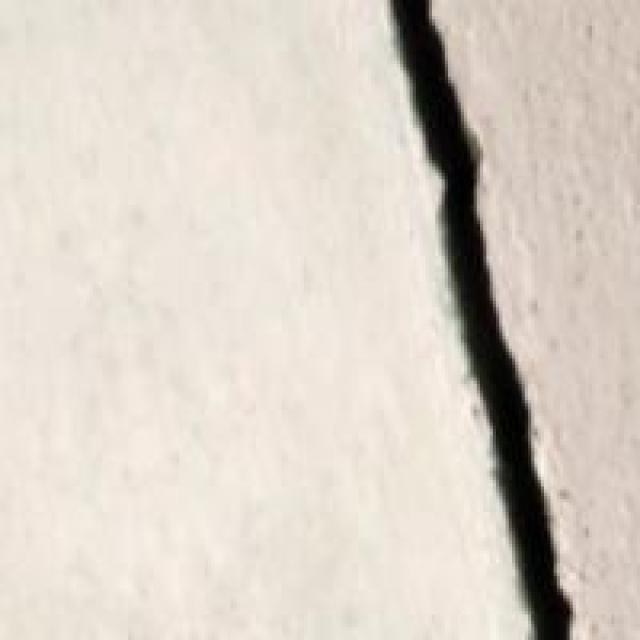Crack: (301, 0, 608, 637)
